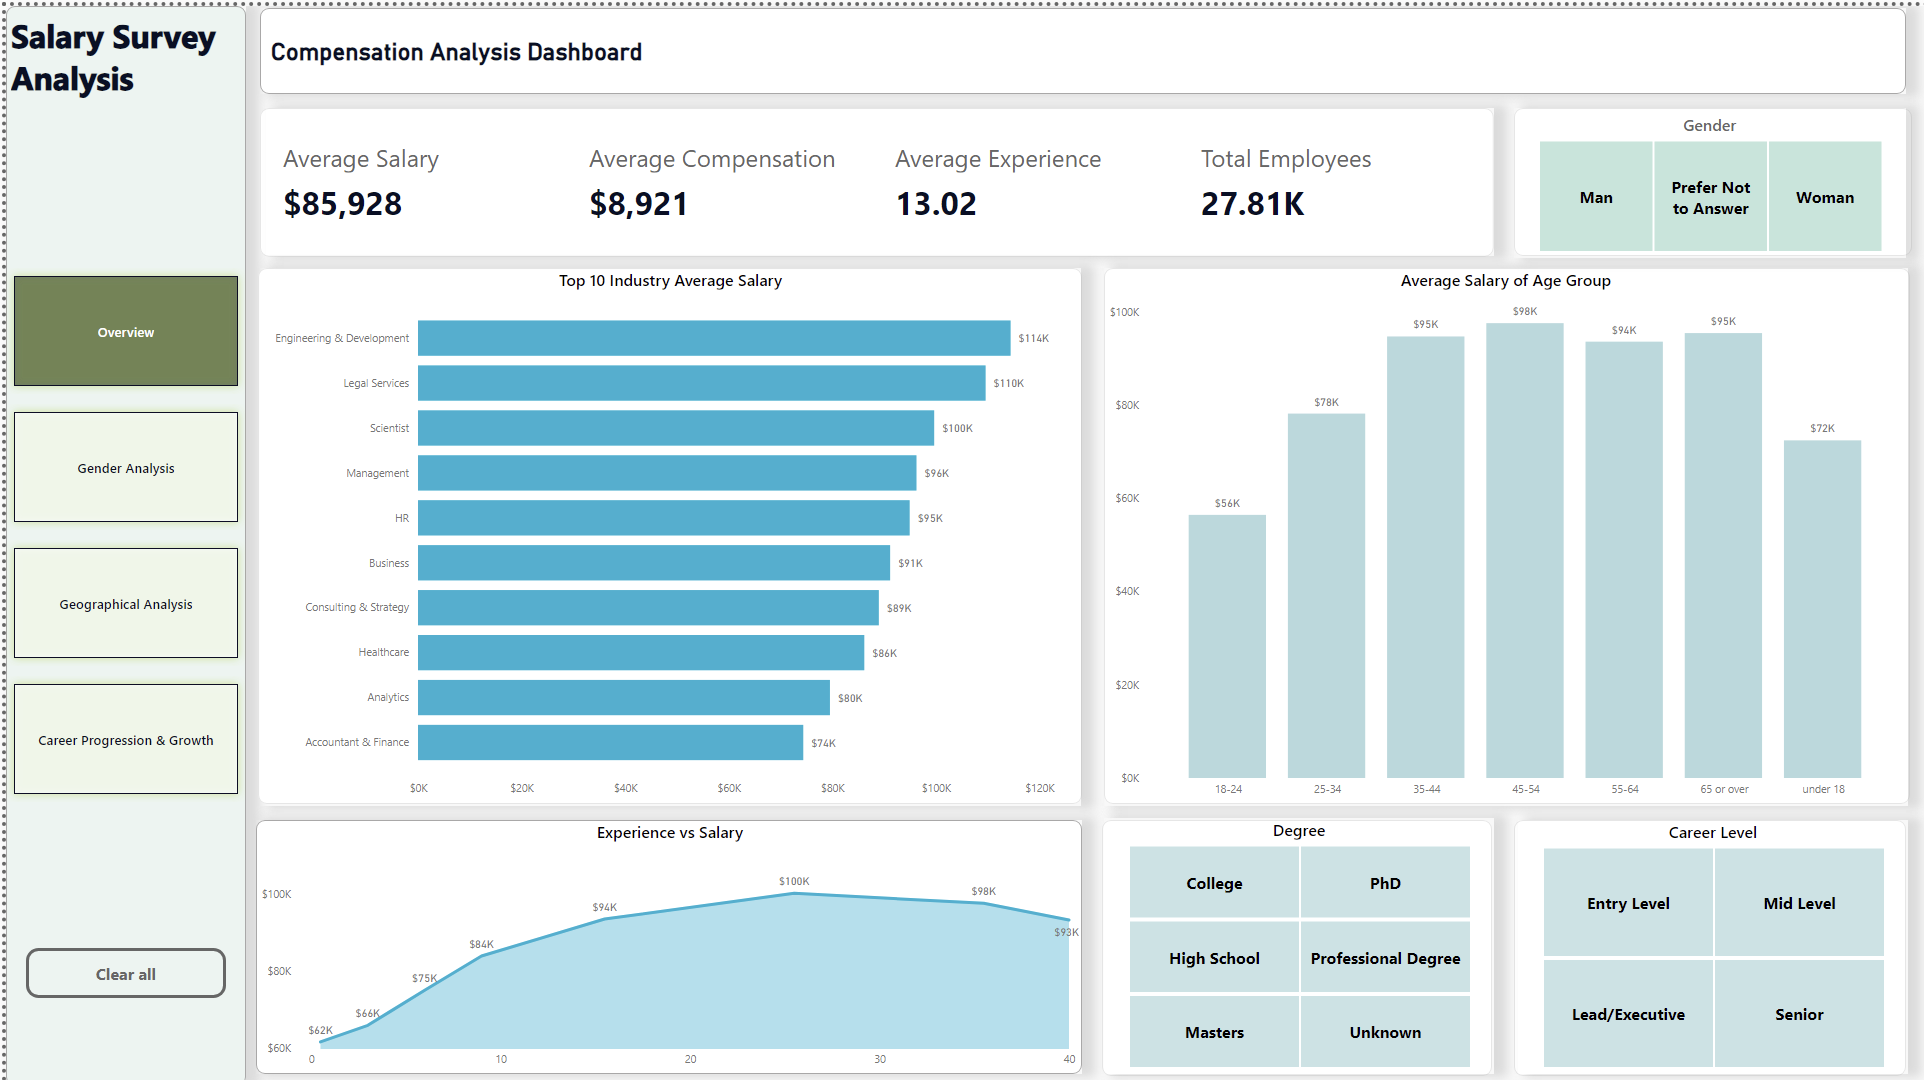

The page's visual inventory and layout, read from the dashboard file:
{"tool":"powerbi","page":{"name":"Overview","canvas":[1920,1080],"ordinal":0},"visuals":[{"type":"shape","box":[0,0,240,1080],"z":0},{"type":"shape","box":[253.8,102.5,1233.8,148.8],"z":1000},{"type":"shape","box":[252,261,824,536],"z":2000},{"type":"shape","box":[254,2,1646,86],"z":3000},{"type":"textbox","box":[260,25,457.5,62.5],"z":4000},{"type":"cardVisual","fields":{"Data":["Avg(project_cleaned_v2 0.annual_salary_usd)","Avg(project_cleaned_v2 0.compensation_usd)","Avg(project_cleaned_v2 0.overall_exp)","CountNonNull(project_cleaned_v2 0.annual_salary_usd)1"]},"box":[260,102.5,1227.5,147.5],"z":5000},{"type":"clusteredBarChart","title":"Top 10 Industry Average Salary","fields":{"Category":["project_cleaned_v2 0.job_category"],"Y":["Avg(project_cleaned_v2 0.annual_salary_usd)"]},"box":[254.4,262.2,821.1,537.8],"z":6000},{"type":"shape","box":[1098,261,806,536],"z":7000},{"type":"clusteredColumnChart","title":"Average Salary of Age Group","fields":{"Y":["Avg(project_cleaned_v2 0.annual_salary_usd)"],"Category":["project_cleaned_v2 0.age_group"]},"box":[1098,262,804,538],"z":8000},{"type":"shape","box":[250,814,826,254],"z":9000},{"type":"areaChart","title":"Experience vs Salary","fields":{"Y":["Avg(project_cleaned_v2 0.annual_salary_usd)"],"Category":["project_cleaned_v2 0.overall_exp"]},"box":[250,814,828,256],"z":10000},{"type":"shape","box":[1096,814,390,256],"z":11000},{"type":"shape","box":[1508,814,392,256],"z":12000},{"type":"slicer","title":"Degree","fields":{"Values":["project_cleaned_v2 0.degree"]},"box":[1098,812,390,256],"z":13000},{"type":"slicer","title":"Career Level","fields":{"Values":["project_cleaned_v2 0.career_level"]},"box":[1512,814,390,254],"z":14000},{"type":"shape","box":[1508,102,398,148],"z":15000},{"type":"slicer","title":"Gender","fields":{"Values":["project_cleaned_v2 0.gender"]},"box":[1508.6,101.4,391.4,150],"z":16000},{"type":"pageNavigator","box":[0,262.5,240,537.5],"z":17000},{"type":"textbox","box":[0,2.5,240,132.5],"z":18000},{"type":"actionButton","box":[20,942.5,200,50],"z":18001}]}

Visuals, with their boxes on the page's 1920x1080 design canvas (x1, y1, x2, y2). These are canvas units, not pixel positions in the 1924x1080 screenshot, which may show the page scaled, cropped or inside an application window:
shape: l=0, t=0, r=240, b=1080
shape: l=254, t=102, r=1488, b=251
shape: l=252, t=261, r=1076, b=797
shape: l=254, t=2, r=1900, b=88
textbox: l=260, t=25, r=718, b=88
cardVisual - Avg(project_cleaned_v2 0.annual_salary_usd) x Avg(project_cleaned_v2 0.compensation_usd): l=260, t=102, r=1488, b=250
"Top 10 Industry Average Salary" clusteredBarChart: l=254, t=262, r=1076, b=800
shape: l=1098, t=261, r=1904, b=797
"Average Salary of Age Group" clusteredColumnChart: l=1098, t=262, r=1902, b=800
shape: l=250, t=814, r=1076, b=1068
"Experience vs Salary" areaChart: l=250, t=814, r=1078, b=1070
shape: l=1096, t=814, r=1486, b=1070
shape: l=1508, t=814, r=1900, b=1070
"Degree" slicer: l=1098, t=812, r=1488, b=1068
"Career Level" slicer: l=1512, t=814, r=1902, b=1068
shape: l=1508, t=102, r=1906, b=250
"Gender" slicer: l=1509, t=101, r=1900, b=251
pageNavigator: l=0, t=262, r=240, b=800
textbox: l=0, t=2, r=240, b=135
actionButton: l=20, t=942, r=220, b=992
